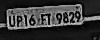1: (22, 13, 29, 28)
2: (69, 11, 75, 25)
6: (27, 13, 37, 26)
8: (62, 12, 70, 24)
9: (55, 11, 63, 25), (74, 10, 81, 24)
F: (40, 12, 47, 26)
P: (15, 16, 23, 28)
T: (46, 11, 54, 26)
U: (7, 15, 17, 29)
